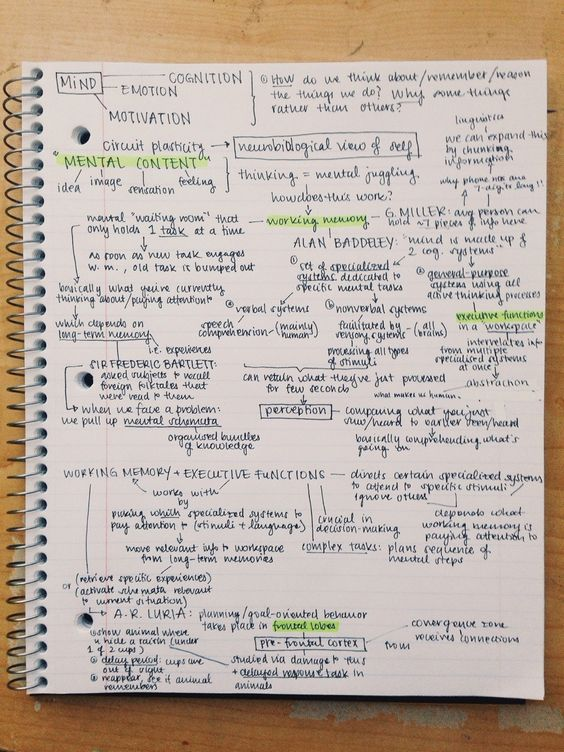page: (51, 62, 542, 690)
